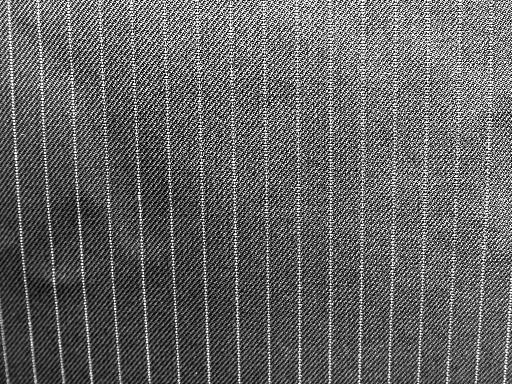fabric_perfect: (4, 3, 512, 378)
